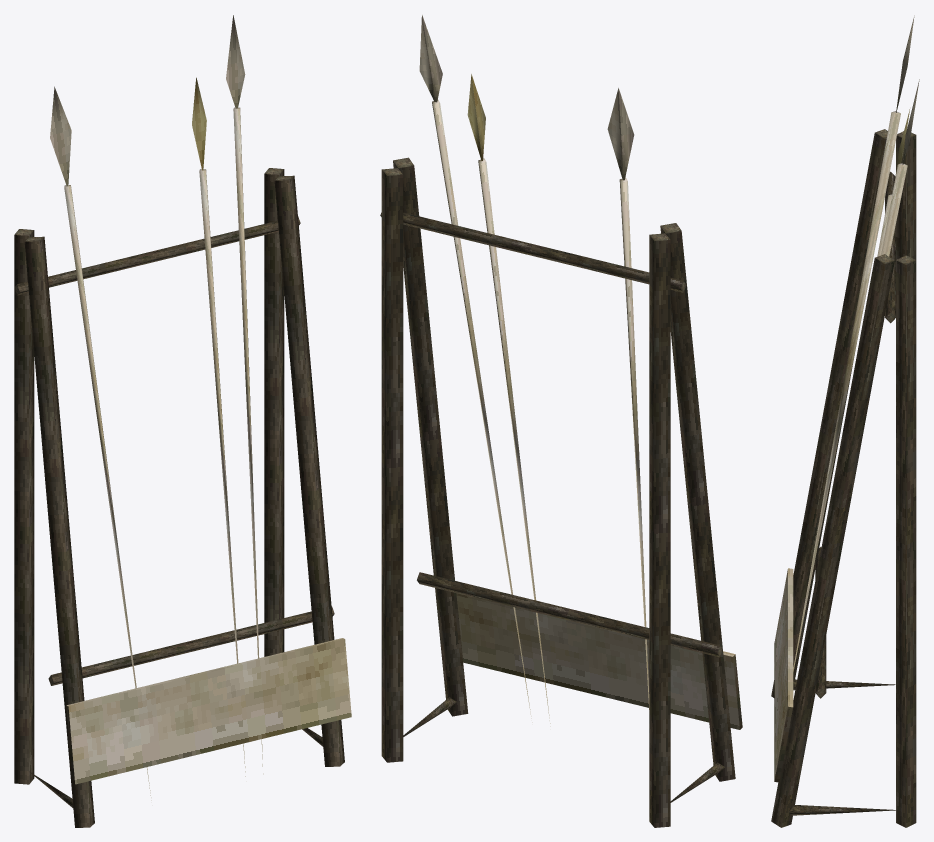
File: thm_dant_rack_spears_l3.fbx
3 views of the same model, side by side, from view 1: azimuth 30°, elevation 25°; view 2: azimuth 150°, elevation 25°; view 3: azimuth 270°, elevation 25° (orthographic). The views are drawn at different scales.
Parts seen in each view (by area): view 1: mesh_node; view 2: mesh_node; view 3: mesh_node.
Boxes of the visible parts, left/top/right/bottom form: mesh_node: left=14, top=15, right=351, bottom=827; mesh_node: left=380, top=15, right=742, bottom=827; mesh_node: left=771, top=15, right=919, bottom=827.
Bounding box in the file's own units: 0.9659 × 2.34 × 0.4313.
Materials: 1 (1 with a texture image).
